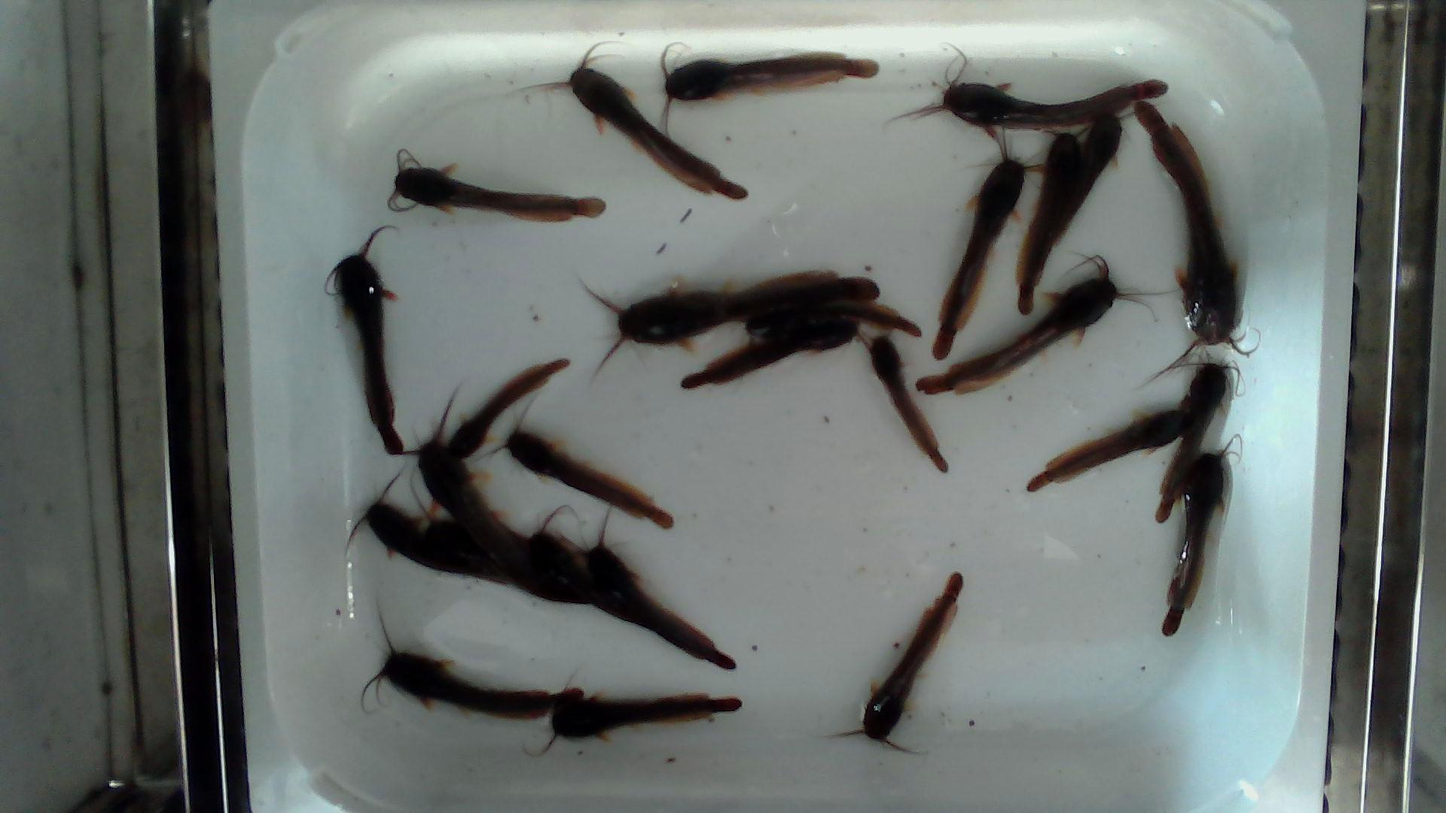lele: (402, 381, 587, 605), (527, 42, 747, 199), (1133, 101, 1256, 379), (580, 270, 884, 381), (917, 257, 1134, 394), (359, 595, 582, 717), (574, 508, 736, 671), (932, 126, 1039, 360), (837, 572, 962, 751), (658, 43, 879, 134), (898, 62, 1167, 135), (346, 473, 513, 583), (510, 505, 653, 629), (506, 425, 673, 528), (333, 227, 407, 455), (1161, 435, 1240, 635), (388, 150, 605, 221), (1155, 346, 1241, 522), (1015, 124, 1090, 316), (680, 320, 868, 390), (1029, 409, 1188, 489), (1049, 112, 1137, 255), (447, 359, 567, 460), (544, 693, 741, 750), (866, 336, 947, 471), (410, 477, 514, 577), (746, 301, 924, 337)
